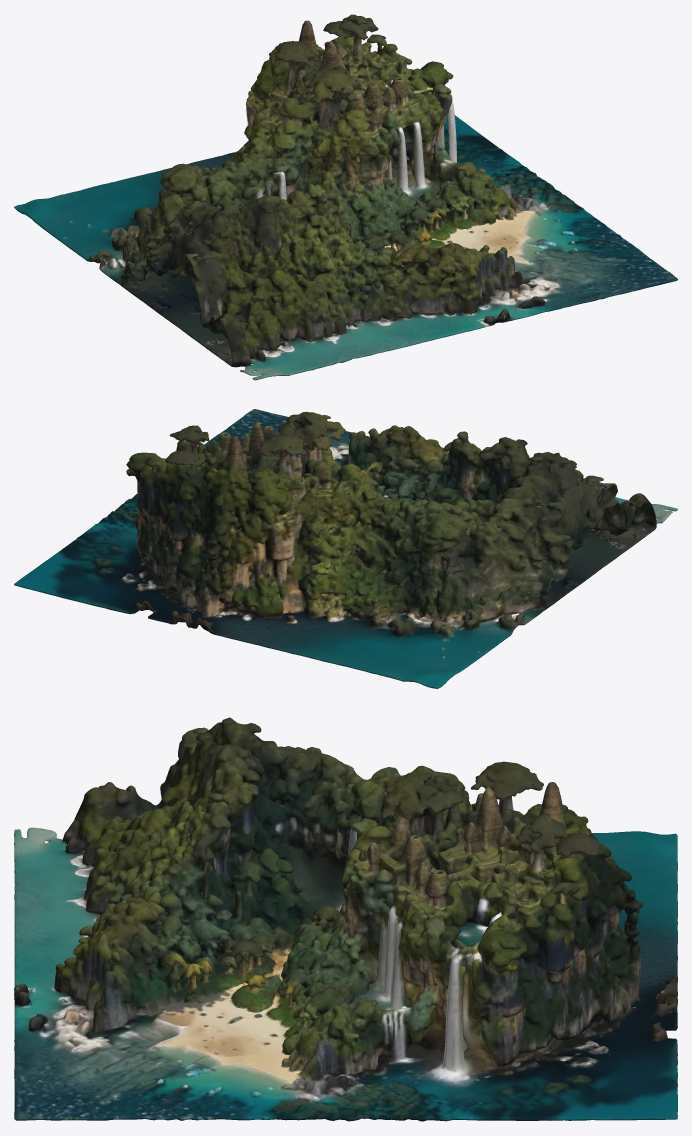
Rendered from Jungle Island.glb.
The picture shows the model from 3 angles, top to bottom: view 1: azimuth 30°, elevation 25°; view 2: azimuth 150°, elevation 25°; view 3: azimuth 270°, elevation 25°; orthographic projection. The views are drawn at different scales.
Parts seen in each view (by area): view 1: geometry_0; view 2: geometry_0; view 3: geometry_0.
Part boxes in pixels (bbox=[...]): geometry_0: bbox=[14, 14, 677, 380]; geometry_0: bbox=[14, 409, 677, 688]; geometry_0: bbox=[14, 717, 677, 1121].
Size of the model in its own units: 1 by 0.3631 by 0.9864.
1 material, 1 textured.
